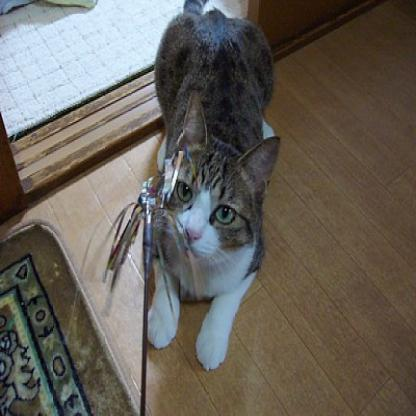cat: (125, 0, 276, 380)
